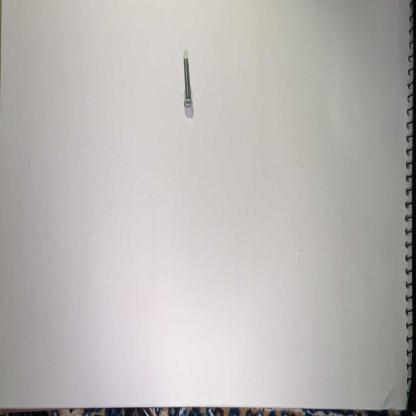Bolts: (182, 51, 196, 112)
